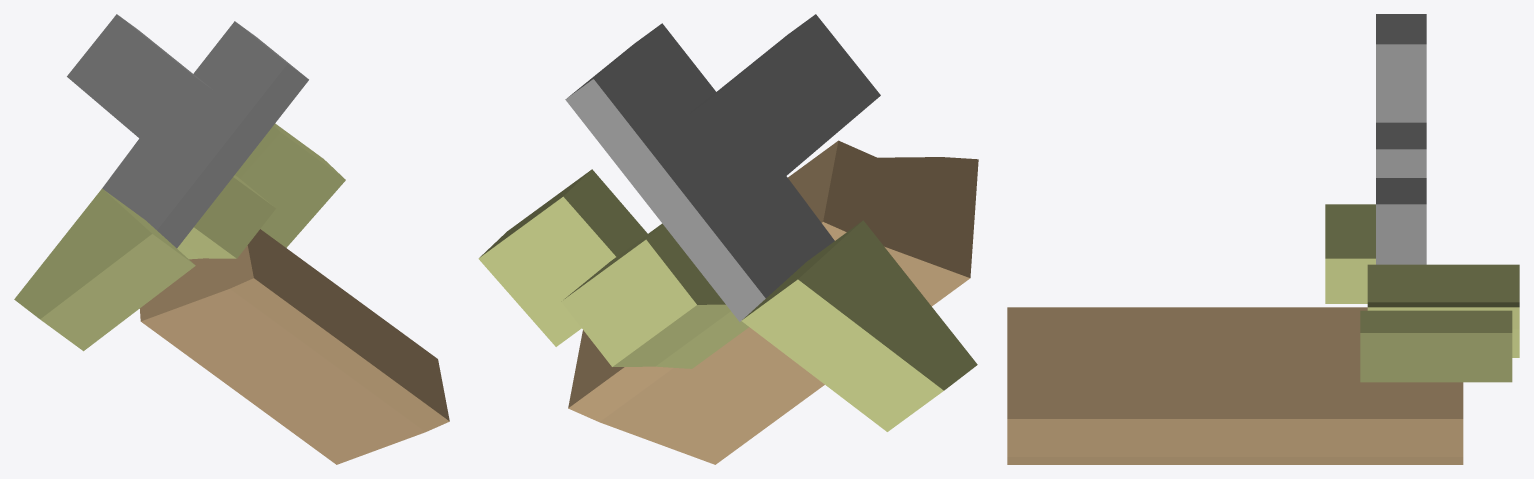
3 renders of one model, left to right at view 1: azimuth 30°, elevation 25°; view 2: azimuth 150°, elevation 25°; view 3: azimuth 270°, elevation 25°, orthographic. The views are drawn at different scales.
Visible parts, largest first — view 1: 0_1_2_0_3_3_1_3_0_1; view 2: 0_1_2_0_3_3_1_3_0_1; view 3: 0_1_2_0_3_3_1_3_0_1.
Part boxes in pixels (box(x1,y1,x2,y2)): 0_1_2_0_3_3_1_3_0_1: box(14, 14, 449, 464); 0_1_2_0_3_3_1_3_0_1: box(478, 14, 978, 464); 0_1_2_0_3_3_1_3_0_1: box(1007, 14, 1519, 464).
Size of the model in its own units: 24.14 by 24.99 by 30.33.
